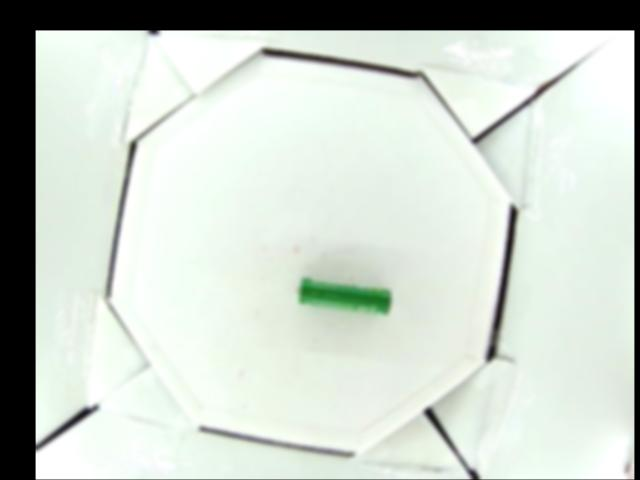Battery: (294, 275, 391, 315)
